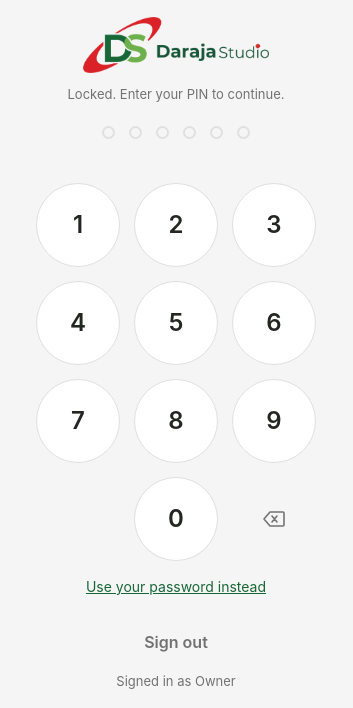
Test: the lock screen, as the owner asked for it › clears the dots and says "Wrong PIN." when the PIN is refused
The image size is (353, 708).
Click the button "2" at (176, 225), box [134,183,218,267]
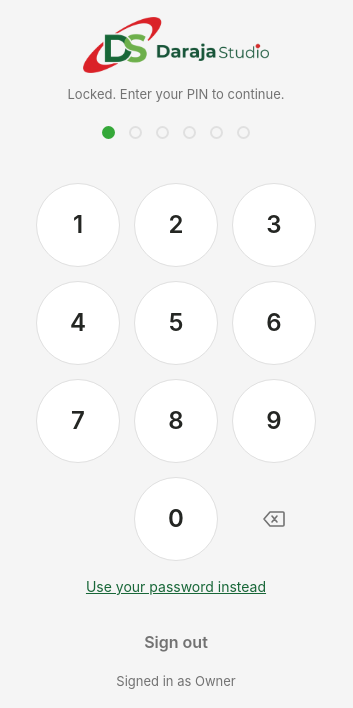
Click the button "4" at (78, 323), box [36,281,120,365]
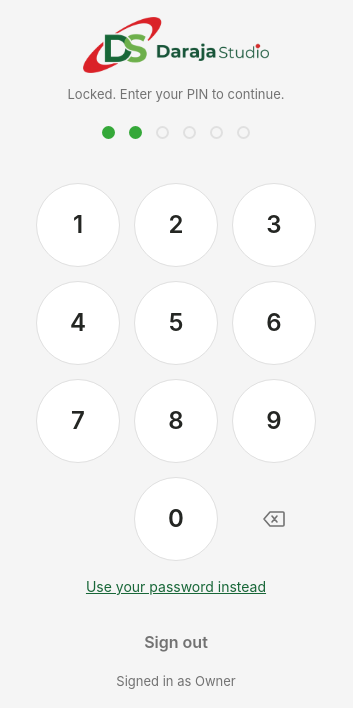
Click the button "6" at (274, 323), box [232,281,316,365]
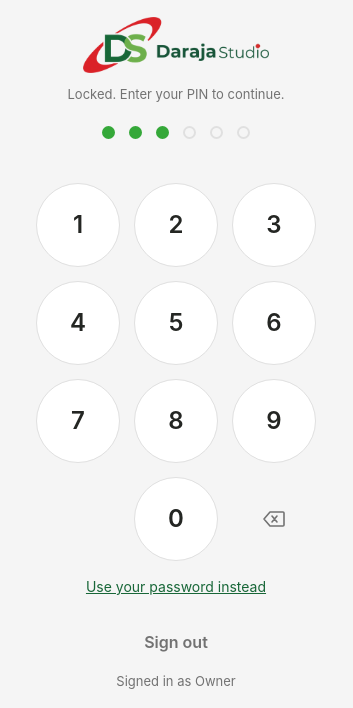
Click the button "8" at (176, 421), box [134,379,218,463]
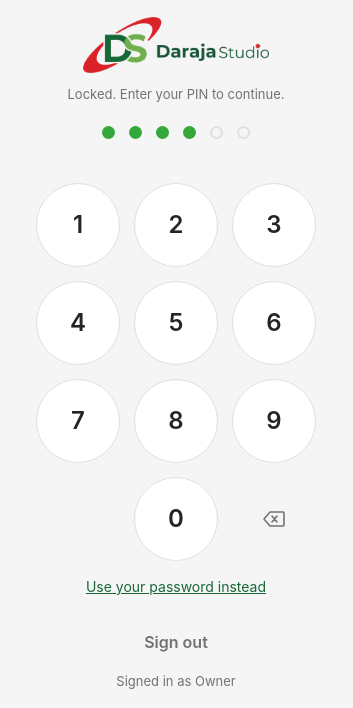
Click the button "1" at (78, 225), box [36,183,120,267]
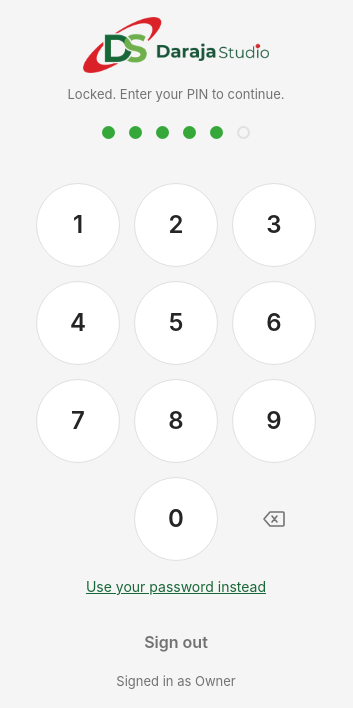
Click the button "3" at (274, 225), box [232,183,316,267]
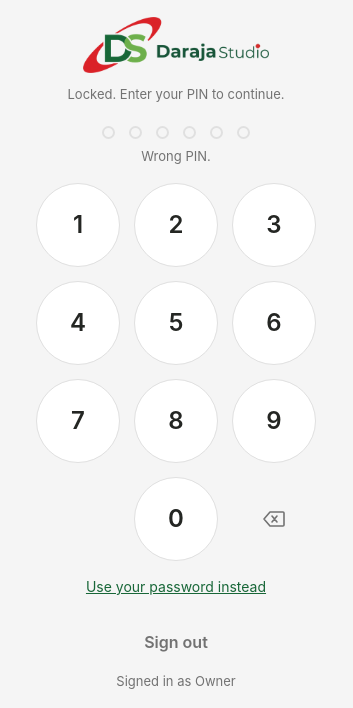
Expected: the text with test id "pin-message" reads "Wrong PIN.", [141,148,211,164]
